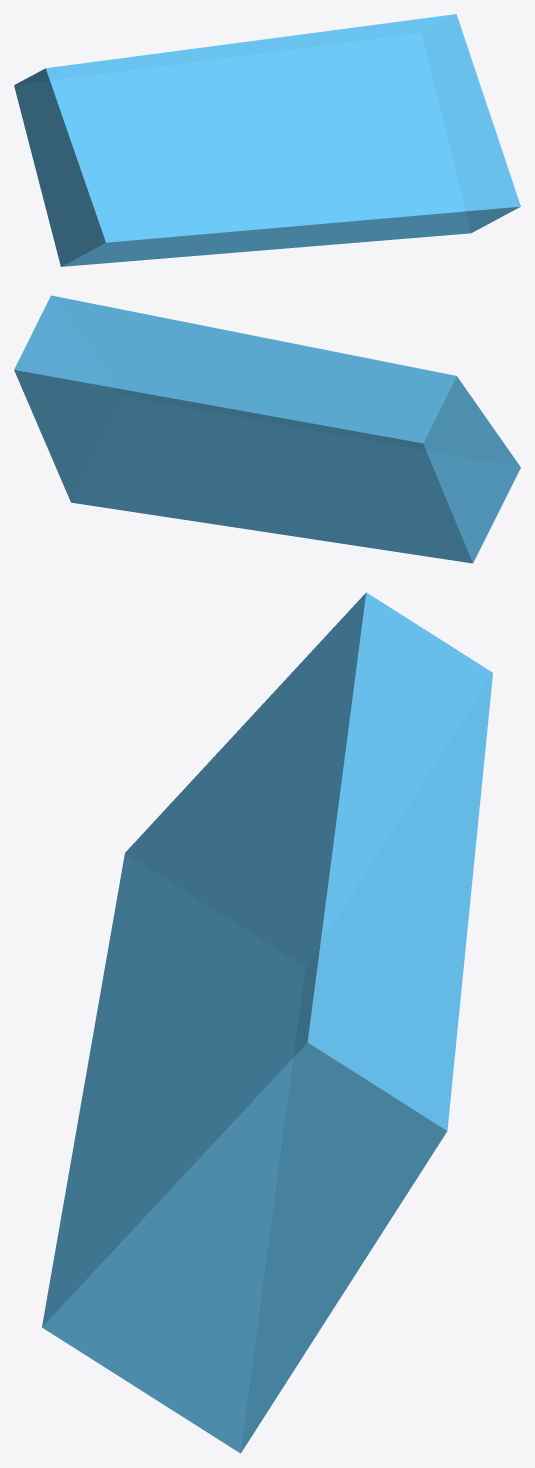
The model's file is Event_421278790_HErechit_45.fbx.
3 renders of one model, top to bottom at view 1: azimuth 30°, elevation 25°; view 2: azimuth 150°, elevation 25°; view 3: azimuth 270°, elevation 25°, orthographic. The views are drawn at different scales.
Parts seen in each view (by area): view 1: Model; view 2: Model; view 3: Model.
Boxes of the visible parts, x1,y1,x2,y2 form: Model: (14,14,520,266); Model: (14,295,520,563); Model: (42,592,492,1453).
Size of the model in its own units: 1.14 by 0.6547 by 0.5618.
